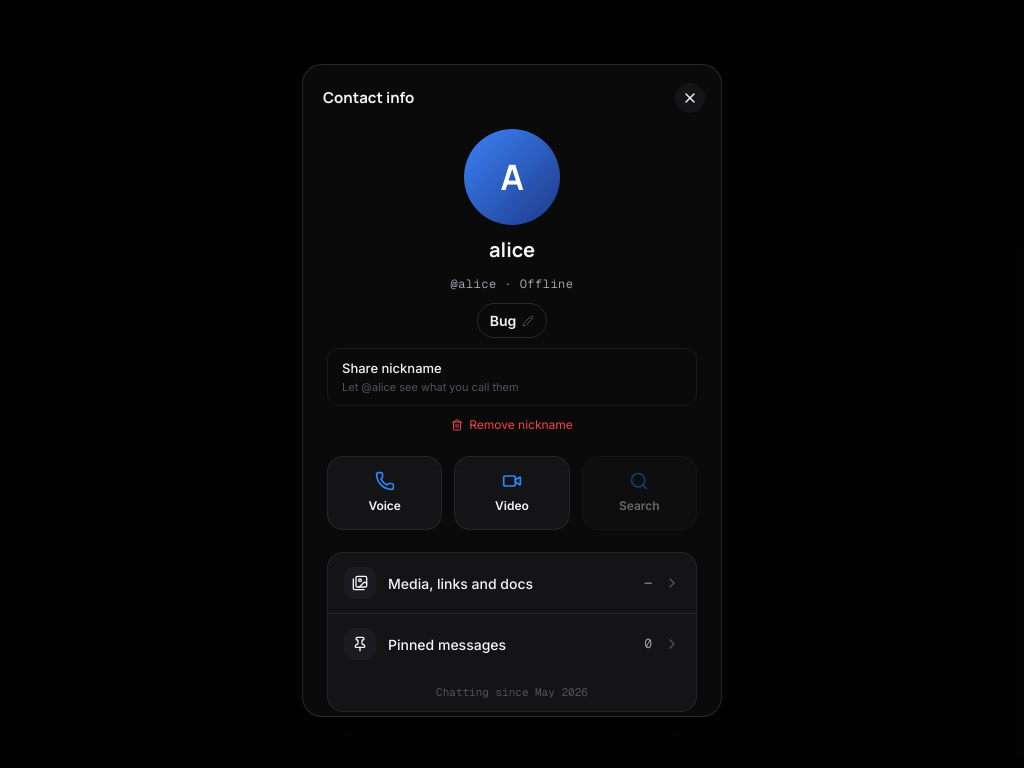
Test: ContactInfoModal — editing › clicking an existing nickname re-opens the editor pre-filled with the current value
This screenshot has width=1024, height=768.
What coordinates should you click on to do the following:
click the button "Bug"
I would click on:
 (512, 320)
Its box is 477,303 -> 547,338.
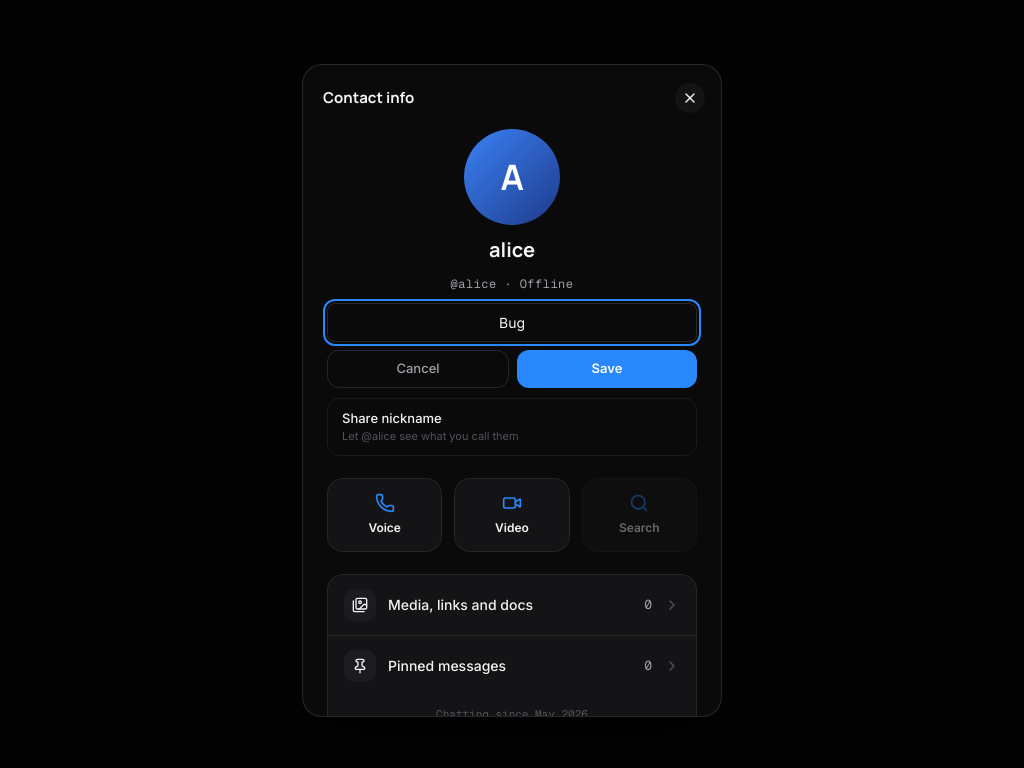
Expected: the field with placeholder "Nickname" holds "Bug", 327,303 -> 697,342
